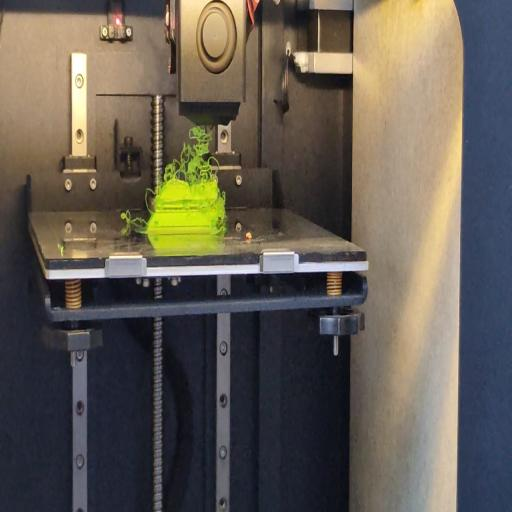spaghetti: (162, 125, 218, 183), (120, 210, 144, 228), (144, 186, 152, 213), (217, 220, 225, 232)
